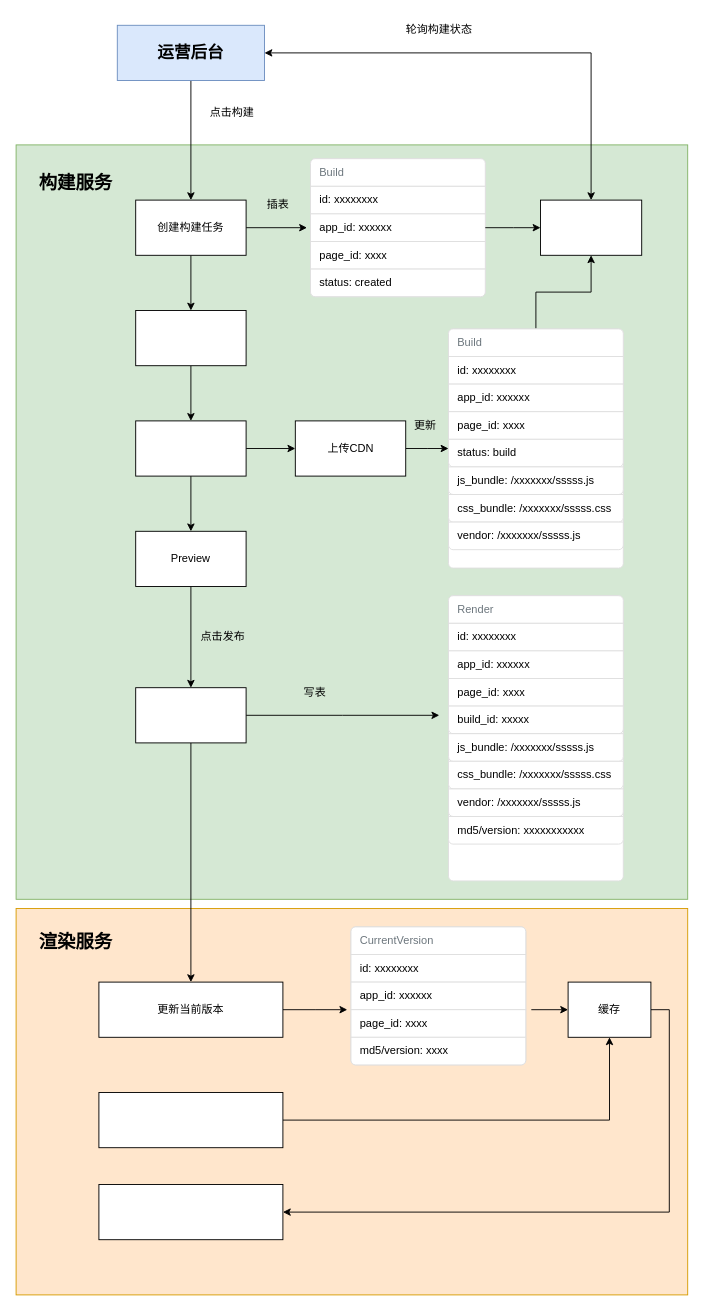
This 704x1311 diagram has some shape labels left out. Here are the shapes that lost their labels. From the top down, the centre of each, then its label:
At (x=591, y=227): "更新状态".
At (x=190, y=338): "打包构建".
At (x=190, y=448): "输出 Bundle".
At (x=190, y=715): "发布".
At (x=190, y=1120): "渲染入口".
At (x=190, y=1212): "渲染、返回HTML".
